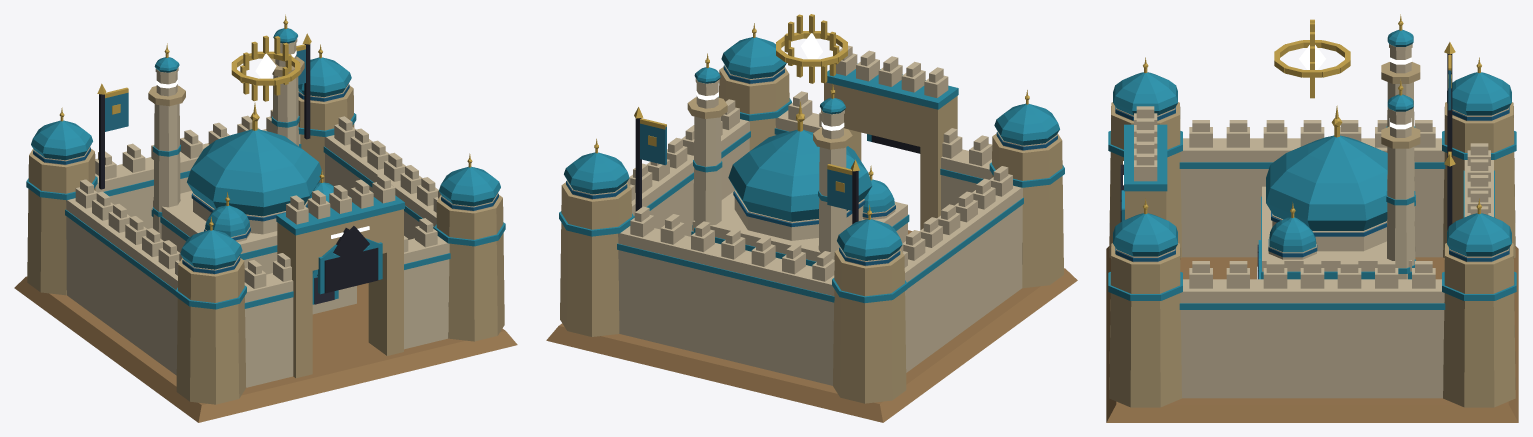
File: castle_t4.glb
3 views of the same model, side by side, from view 1: azimuth 30°, elevation 25°; view 2: azimuth 150°, elevation 25°; view 3: azimuth 270°, elevation 25° (orthographic). The views are drawn at different scales.
Visible parts, largest first — view 1: body, part_core, glow; view 2: body, part_core, glow; view 3: body, part_core, glow.
Part boxes in pixels (box(x1,y1,x2,y2)): body: box(14, 14, 517, 422); part_core: box(231, 35, 300, 101); glow: box(156, 50, 369, 238); body: box(546, 23, 1077, 422); part_core: box(776, 14, 847, 83); glow: box(696, 33, 844, 130); body: box(1106, 14, 1518, 422); part_core: box(1274, 19, 1350, 98); glow: box(1123, 45, 1411, 279).
Bounding box in the file's own units: 4.2 × 3.51 × 4.2.
